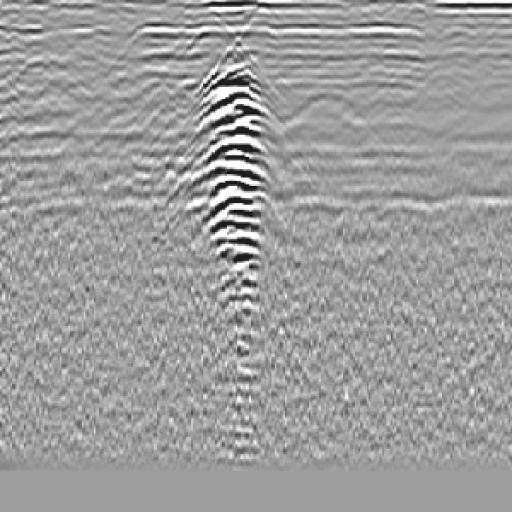metalic: (123, 21, 330, 353)
